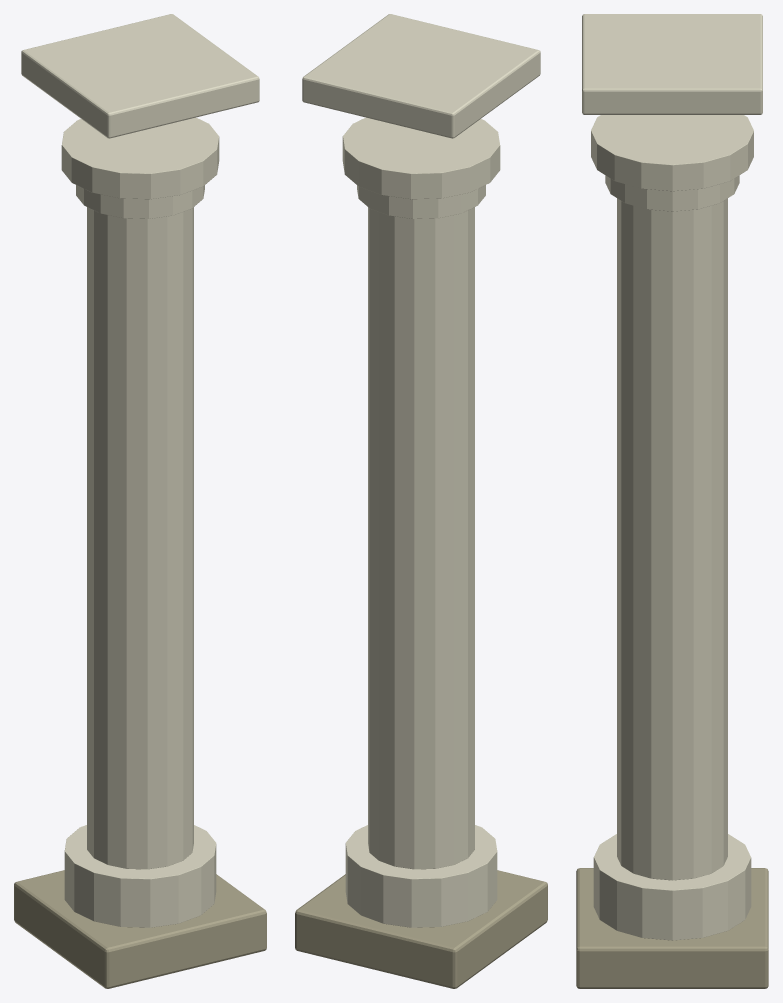
Rendered from source-edit.glb.
3 renders of one model, left to right at view 1: azimuth 30°, elevation 25°; view 2: azimuth 150°, elevation 25°; view 3: azimuth 270°, elevation 25°, orthographic. The views are drawn at different scales.
Parts seen in each view (by area): view 1: COLUMN_RoundShaft, COLUMN_TopAbacus, COLUMN_Foot, COLUMN_CapitalRing, COLUMN_Base, COLUMN_CapitalRing.001; view 2: COLUMN_RoundShaft, COLUMN_TopAbacus, COLUMN_Foot, COLUMN_CapitalRing, COLUMN_Base, COLUMN_CapitalRing.001; view 3: COLUMN_RoundShaft, COLUMN_TopAbacus, COLUMN_Foot, COLUMN_CapitalRing, COLUMN_Base, COLUMN_CapitalRing.001.
Part boxes in pixels (x1,y1,x2,y2): COLUMN_RoundShaft: (87, 207, 193, 869); COLUMN_TopAbacus: (21, 14, 259, 138); COLUMN_Foot: (14, 870, 266, 988); COLUMN_CapitalRing: (61, 117, 219, 199); COLUMN_Base: (64, 825, 216, 927); COLUMN_CapitalRing.001: (76, 185, 204, 218); COLUMN_RoundShaft: (368, 207, 474, 869); COLUMN_TopAbacus: (302, 14, 540, 138); COLUMN_Foot: (295, 870, 547, 988); COLUMN_CapitalRing: (342, 117, 500, 199); COLUMN_Base: (345, 825, 497, 927); COLUMN_CapitalRing.001: (357, 185, 485, 218); COLUMN_RoundShaft: (617, 198, 727, 880); COLUMN_TopAbacus: (582, 14, 762, 114); COLUMN_Foot: (576, 868, 768, 988); COLUMN_CapitalRing: (591, 115, 753, 191); COLUMN_Base: (593, 834, 751, 940); COLUMN_CapitalRing.001: (605, 175, 739, 211).
Size of the model in its own units: 0.66 by 3.4 by 0.66.
